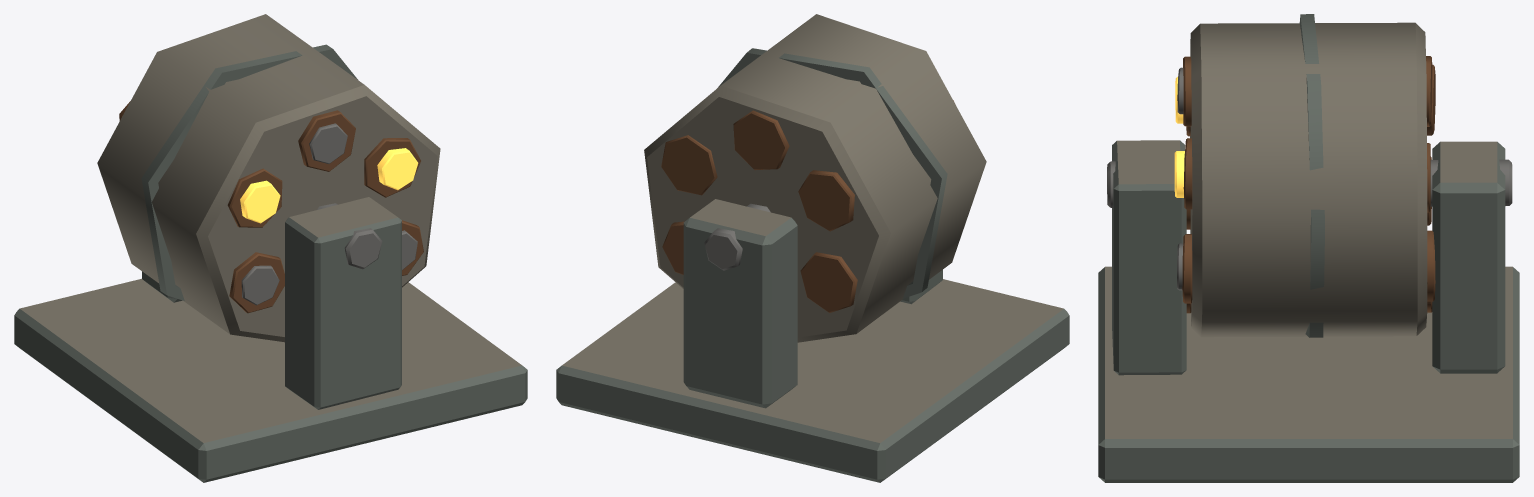
The model's file is R4X_ReloadBooster_LOD1.fbx.
3 views of the same model, side by side, from view 1: azimuth 30°, elevation 25°; view 2: azimuth 150°, elevation 25°; view 3: azimuth 270°, elevation 25° (orthographic). The views are drawn at different scales.
Visible parts, largest first — view 1: R4X_ReloadBooster_LOD1; view 2: R4X_ReloadBooster_LOD1; view 3: R4X_ReloadBooster_LOD1.
Boxes of the visible parts, left/top/right/bottom form: R4X_ReloadBooster_LOD1: left=14, top=14, right=527, bottom=482; R4X_ReloadBooster_LOD1: left=556, top=14, right=1069, bottom=482; R4X_ReloadBooster_LOD1: left=1098, top=14, right=1519, bottom=482.
Bounding box in the file's own units: 0.52 × 0.4823 × 0.52.
